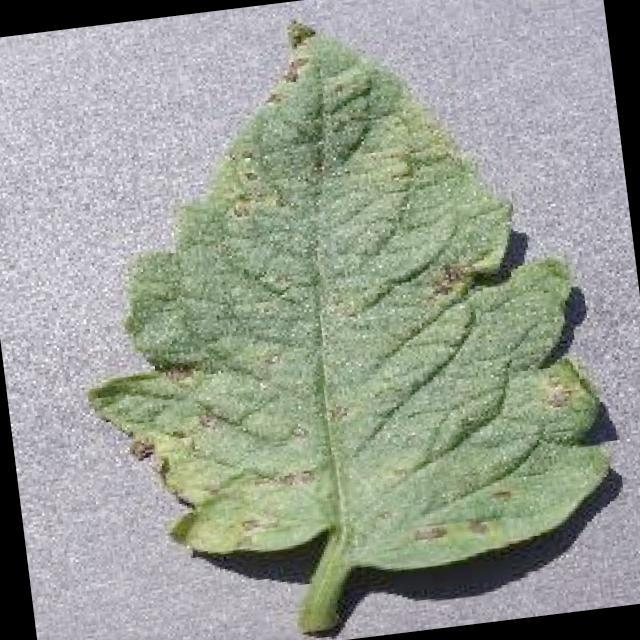Tomato Septoria spot leaf: (49, 0, 624, 603)
